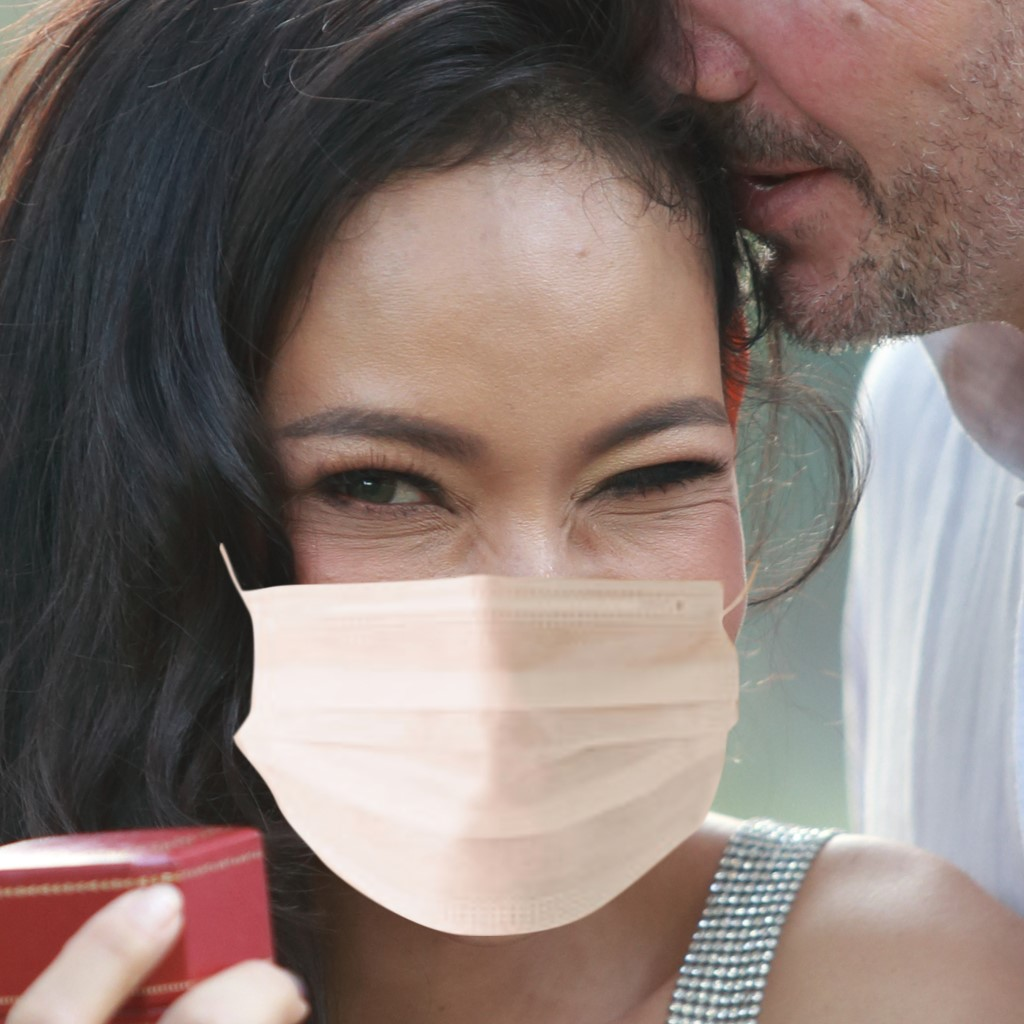con_mascara: (193, 57, 758, 914)
